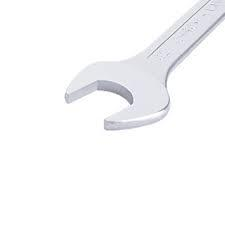wrench: (63, 0, 224, 131)
